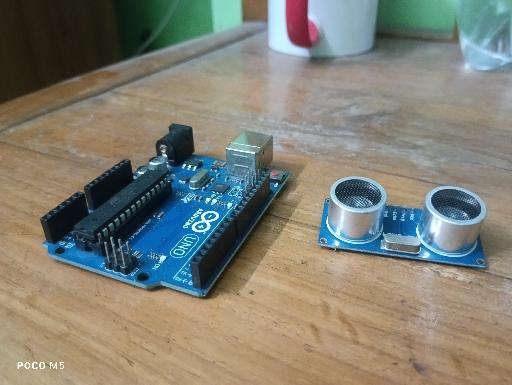Arduino: (40, 123, 291, 298)
sensor: (318, 176, 487, 269)
